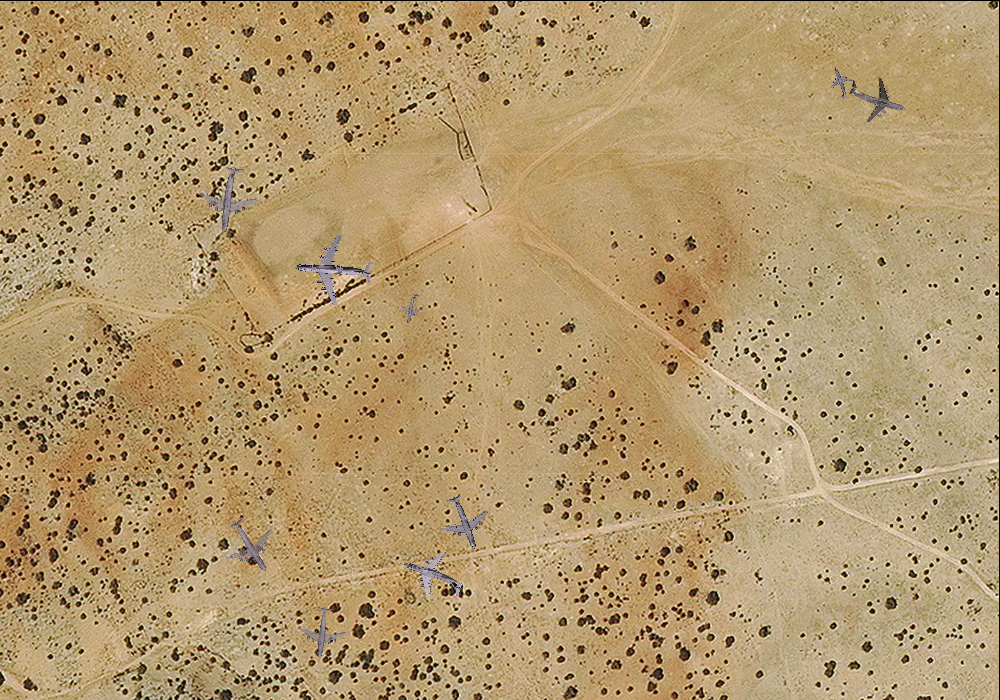plane: (292, 231, 374, 308), (211, 506, 288, 585), (394, 538, 473, 615), (193, 162, 264, 236), (429, 486, 498, 558), (841, 63, 913, 132), (294, 603, 349, 662), (820, 62, 859, 103), (395, 291, 428, 326)
